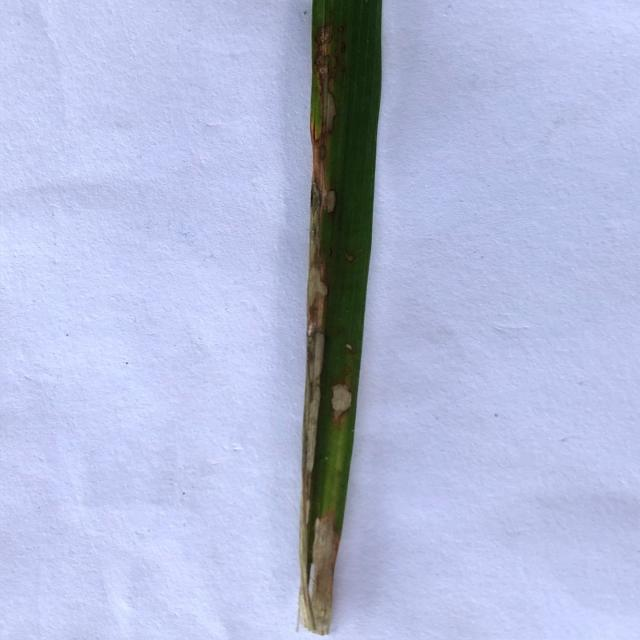leaf blight: (301, 16, 340, 483), (301, 502, 342, 635), (327, 374, 356, 428)
